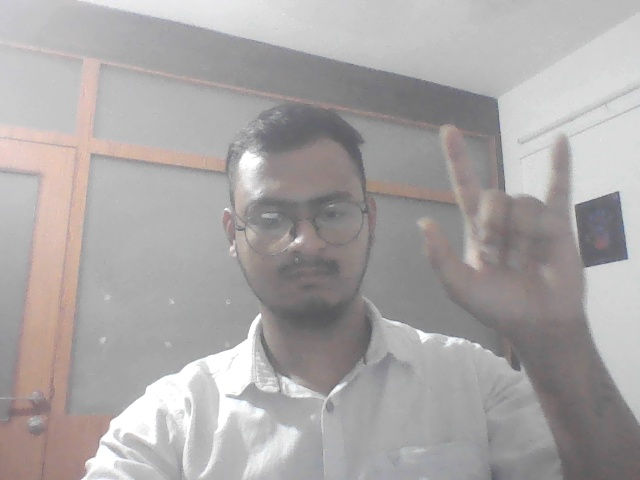I Love You: (404, 109, 604, 356)
